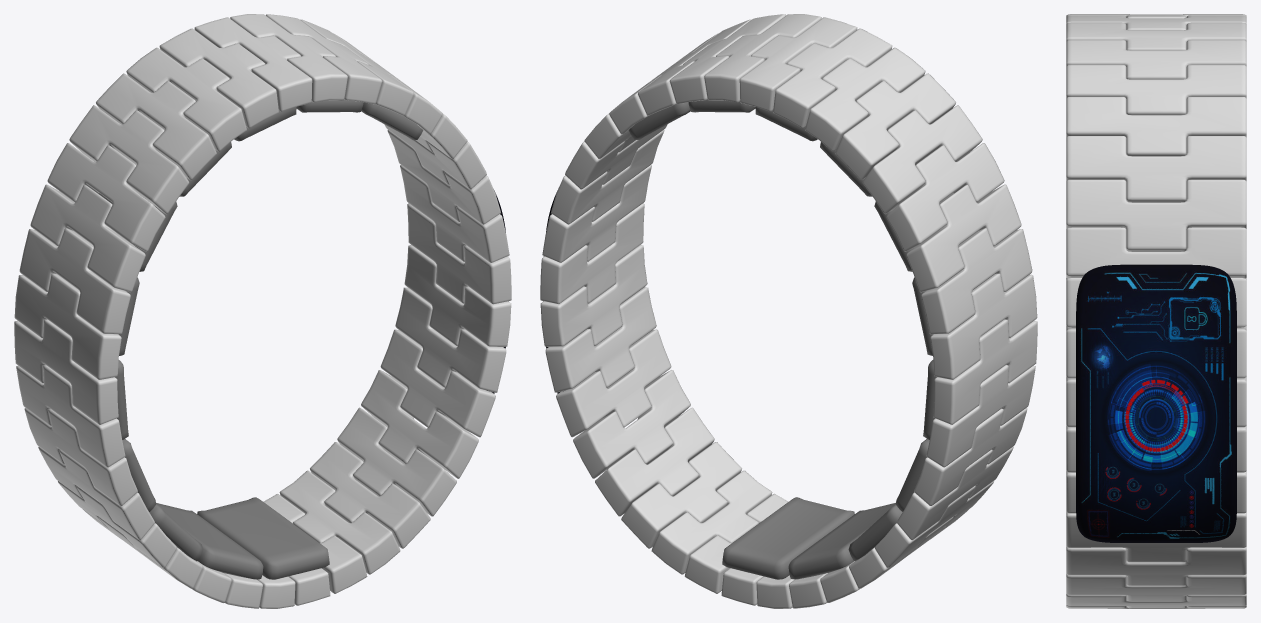
3 views of the same model, side by side, from view 1: azimuth 30°, elevation 25°; view 2: azimuth 150°, elevation 25°; view 3: azimuth 270°, elevation 25° (orthographic). The views are drawn at different scales.
Visible parts, largest first — view 1: Plane.003; view 2: Plane.003; view 3: Plane.003.
Part boxes in pixels (box(x1,y1,x2,y2)): Plane.003: box(14, 14, 511, 608); Plane.003: box(540, 14, 1037, 608); Plane.003: box(1066, 14, 1246, 608).
Size of the model in its own units: 2.76 by 3.33 by 0.9825.
3 materials, 1 textured.
